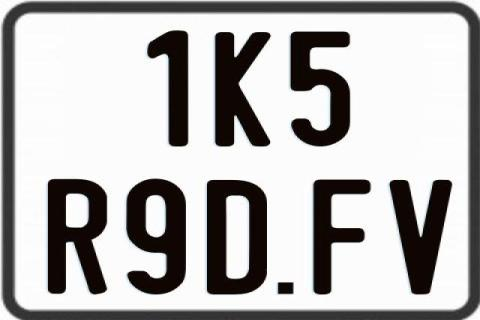0: (289, 29, 353, 147), (126, 177, 187, 293), (146, 30, 192, 146)
D: (207, 180, 270, 295)
F: (313, 179, 371, 295)
K: (212, 31, 272, 145)
R: (46, 177, 107, 293)
V: (386, 180, 450, 298)
